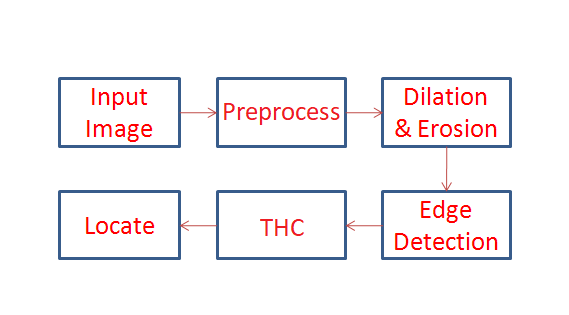arrow: (440, 144, 454, 191), (179, 217, 217, 232), (345, 218, 382, 233), (179, 107, 216, 119), (347, 107, 379, 118)
process: (379, 74, 514, 150), (214, 75, 349, 149), (213, 188, 349, 261), (379, 188, 514, 261), (55, 74, 184, 150), (56, 189, 184, 261)
text: (394, 85, 499, 141), (393, 199, 500, 250), (85, 85, 154, 143), (222, 101, 341, 127), (83, 214, 155, 236), (258, 216, 305, 238)
